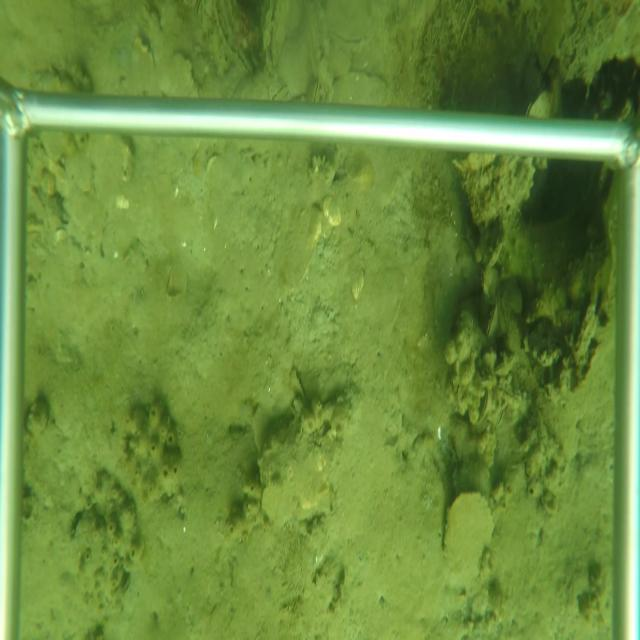Oyster-Closed: (211, 2, 254, 79), (523, 88, 554, 116), (478, 388, 492, 422), (486, 301, 498, 339), (270, 81, 288, 100), (308, 77, 320, 100)
Oyster-Indeterminate: (444, 490, 499, 584)
